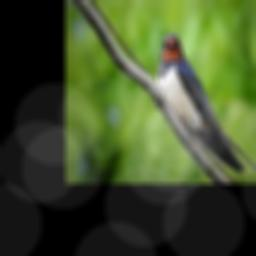Swallow: (156, 32, 256, 180)
